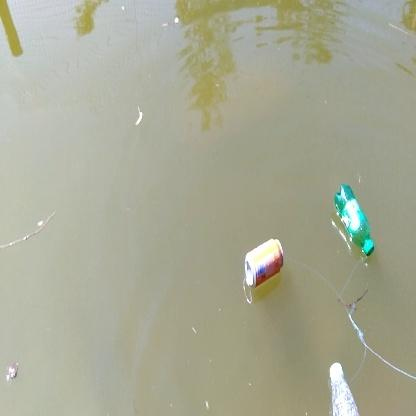can: (244, 239, 284, 285)
plastic bottle: (332, 184, 376, 256), (328, 363, 361, 416)
